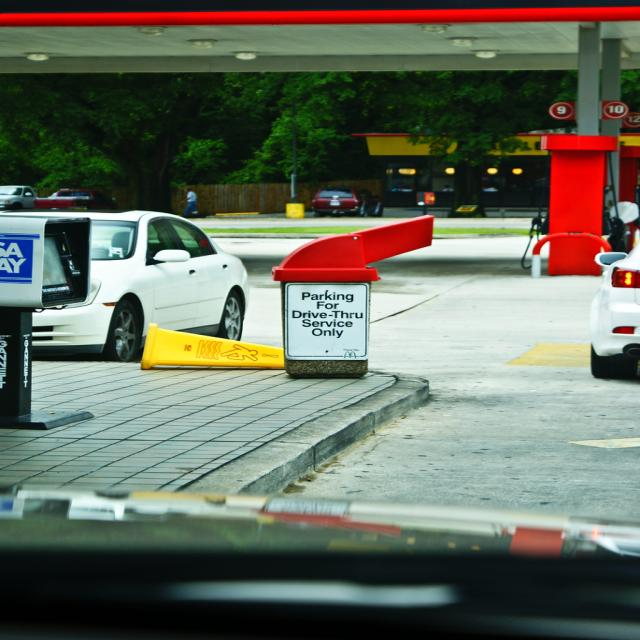car: (0, 202, 250, 356), (591, 230, 638, 376), (300, 186, 361, 216), (0, 182, 47, 205), (52, 190, 92, 201)
